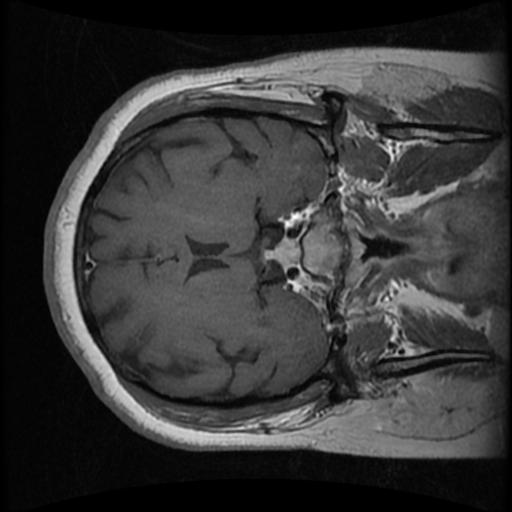pituitary tumour: (262, 238, 301, 267)
